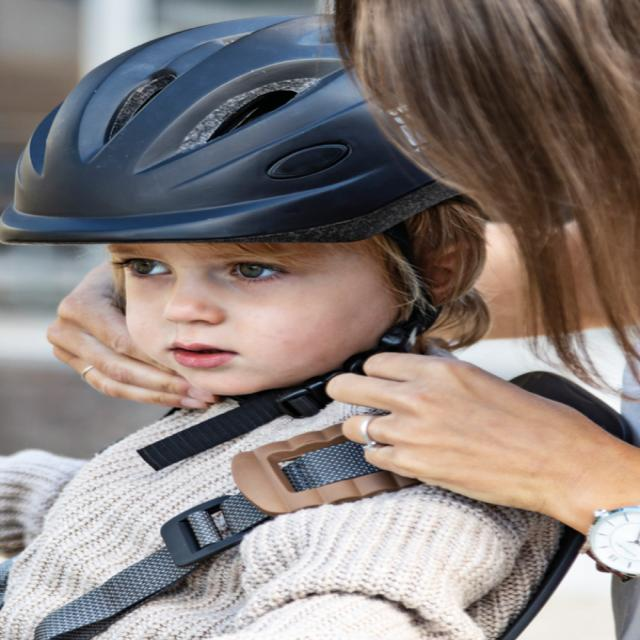Helmet: (1, 13, 483, 251)
